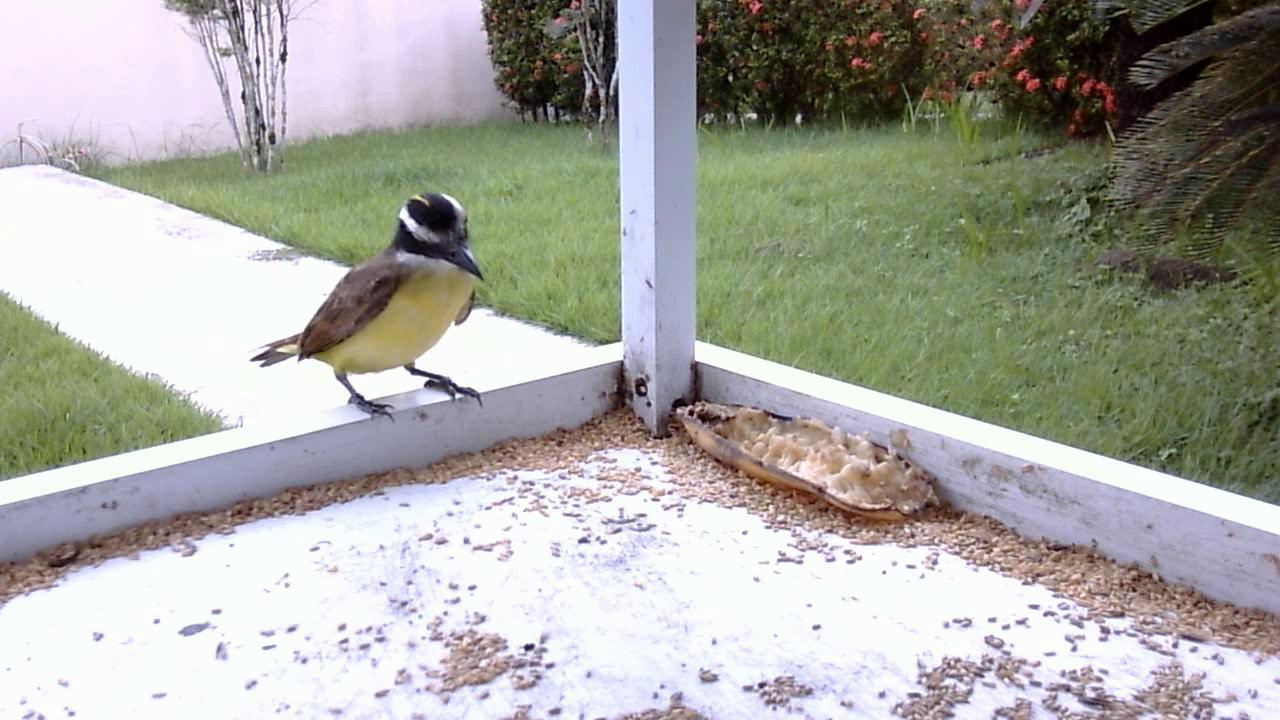bem_te_vi: (242, 185, 491, 438)
